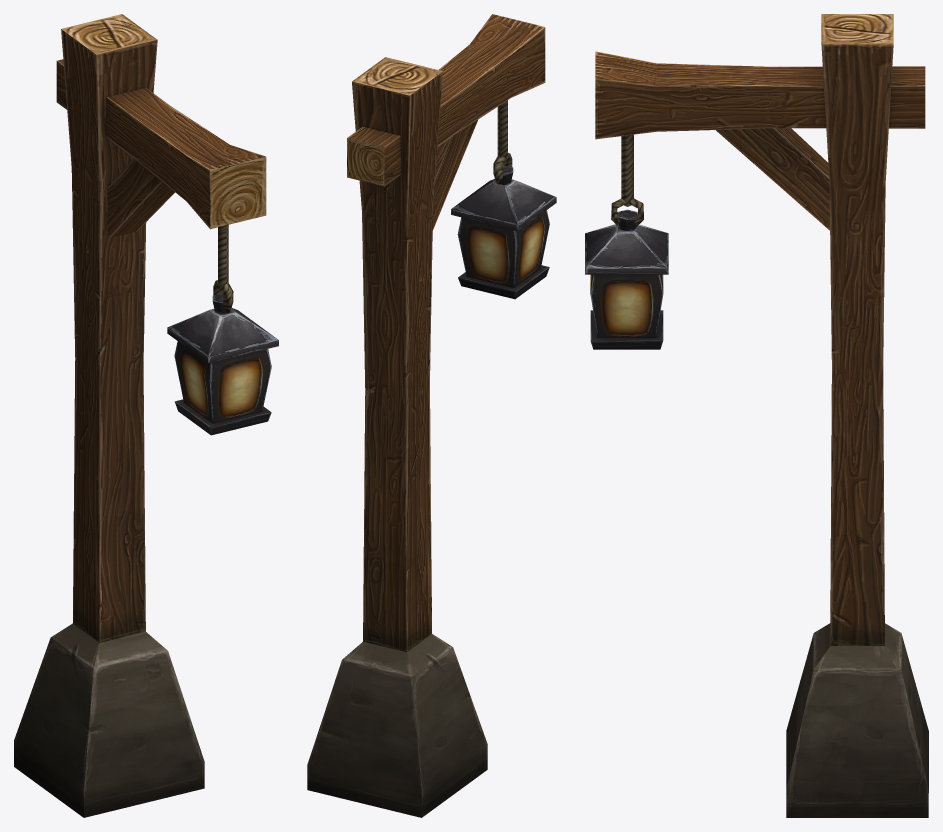
File: Lantern1.fbx
The picture shows the model from 3 angles, left to right: view 1: azimuth 30°, elevation 25°; view 2: azimuth 150°, elevation 25°; view 3: azimuth 270°, elevation 25°; orthographic projection. The views are drawn at different scales.
Visible parts, largest first — view 1: polySurface503; view 2: polySurface503; view 3: polySurface503.
Part boxes in pixels (bbox=[...]): polySurface503: bbox=[14, 14, 278, 817]; polySurface503: bbox=[307, 14, 556, 817]; polySurface503: bbox=[585, 14, 928, 817].
Bounding box in the file's own units: 0.6362 × 3.74 × 1.53.
1 material, 1 textured.
